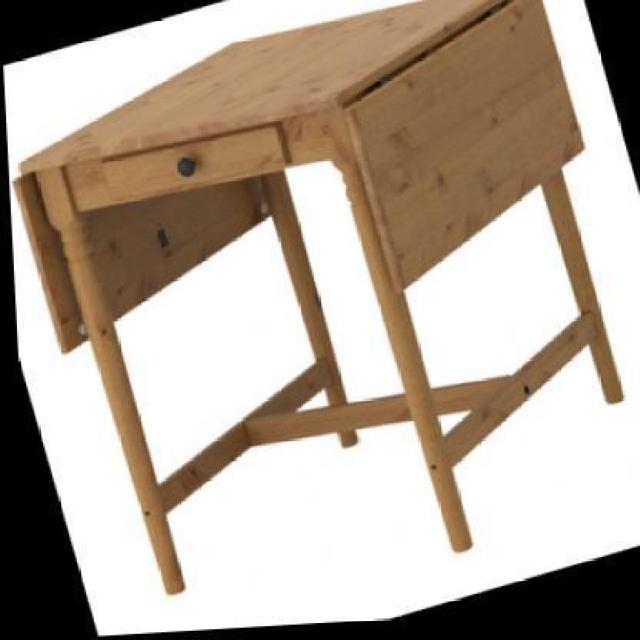tables: (7, 0, 635, 595)
